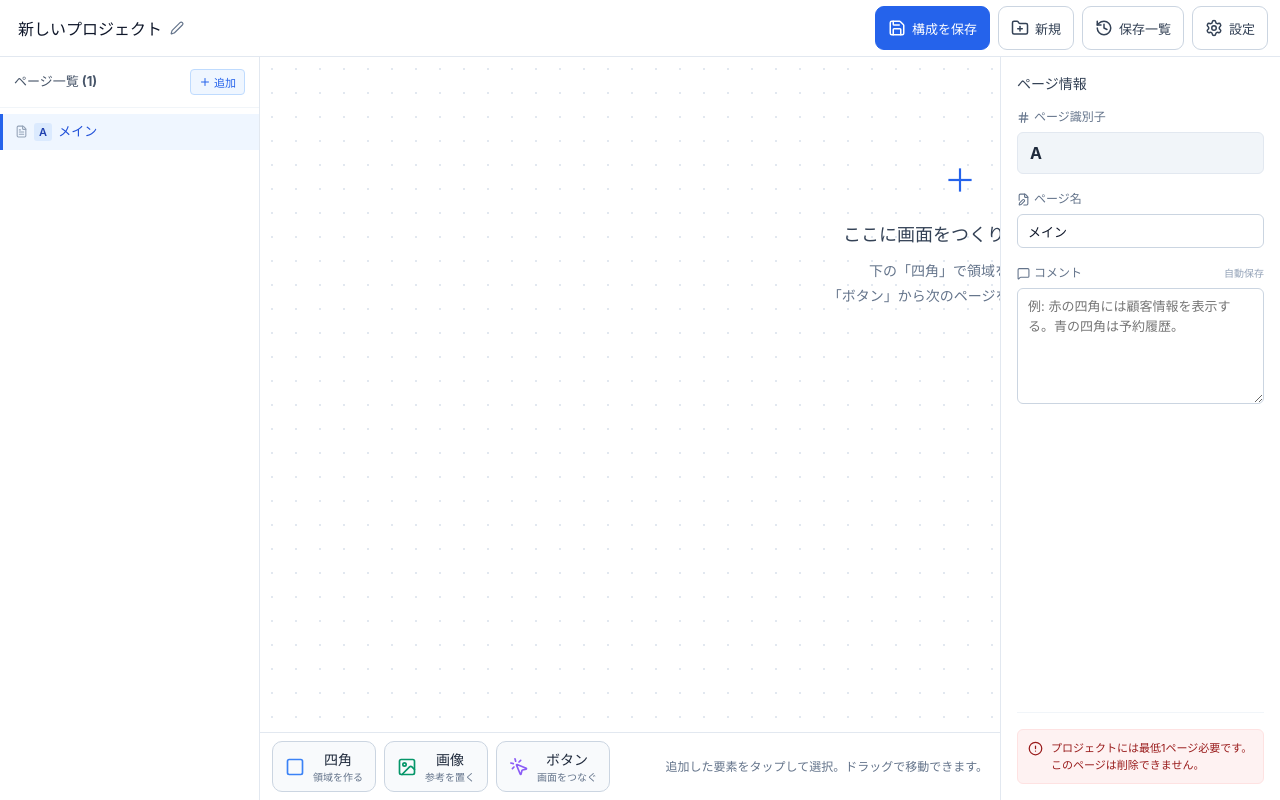
Test case: UI Mock App Component Tests › 四角の追加: 薄い色が割り当てられ、色名バッジが表示される
Click the button "四角 領域を作る".
click(324, 766)  # box [272,741,376,792]
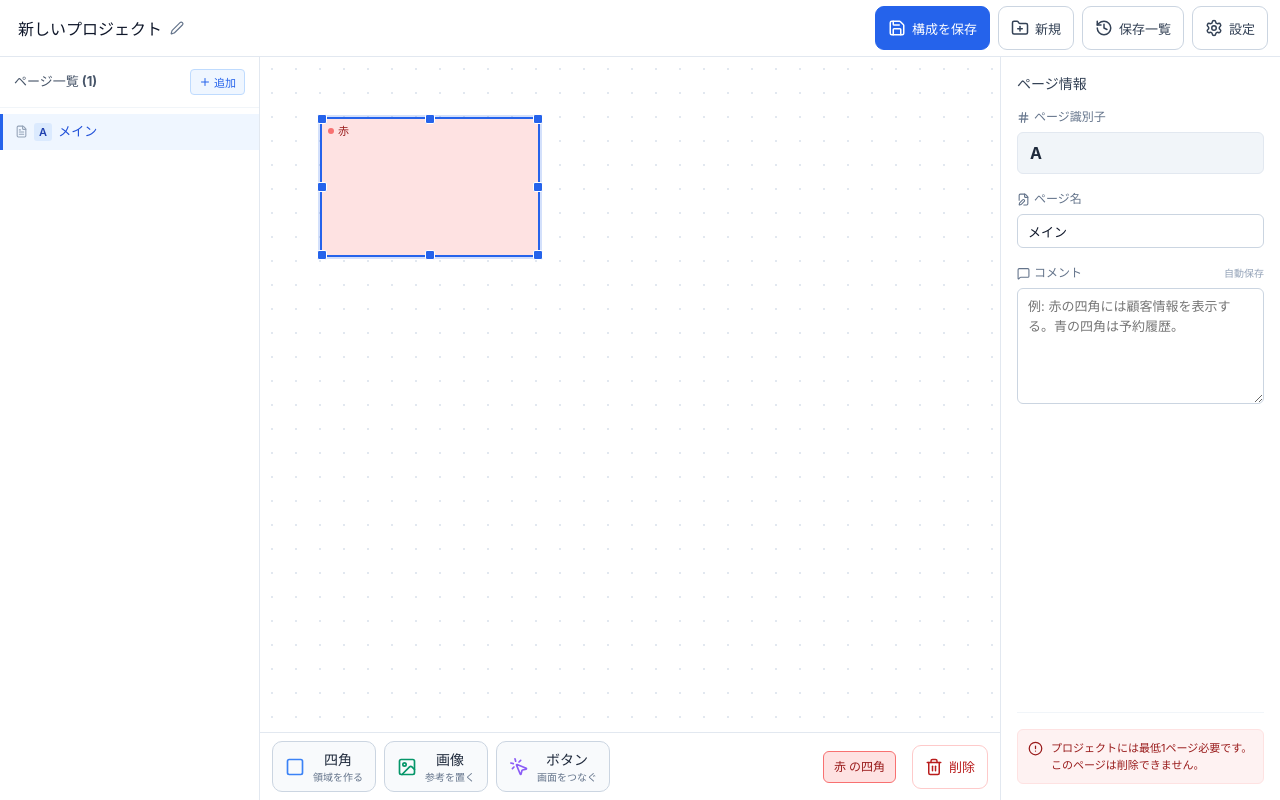
Check: the text "赤" is shown, box [338,123,349,140]
Check: the text "赤 の四角" is shown, box [823,750,896,782]
Click the button "四角 領域を作る".
click(324, 766)  # box [272,741,376,792]
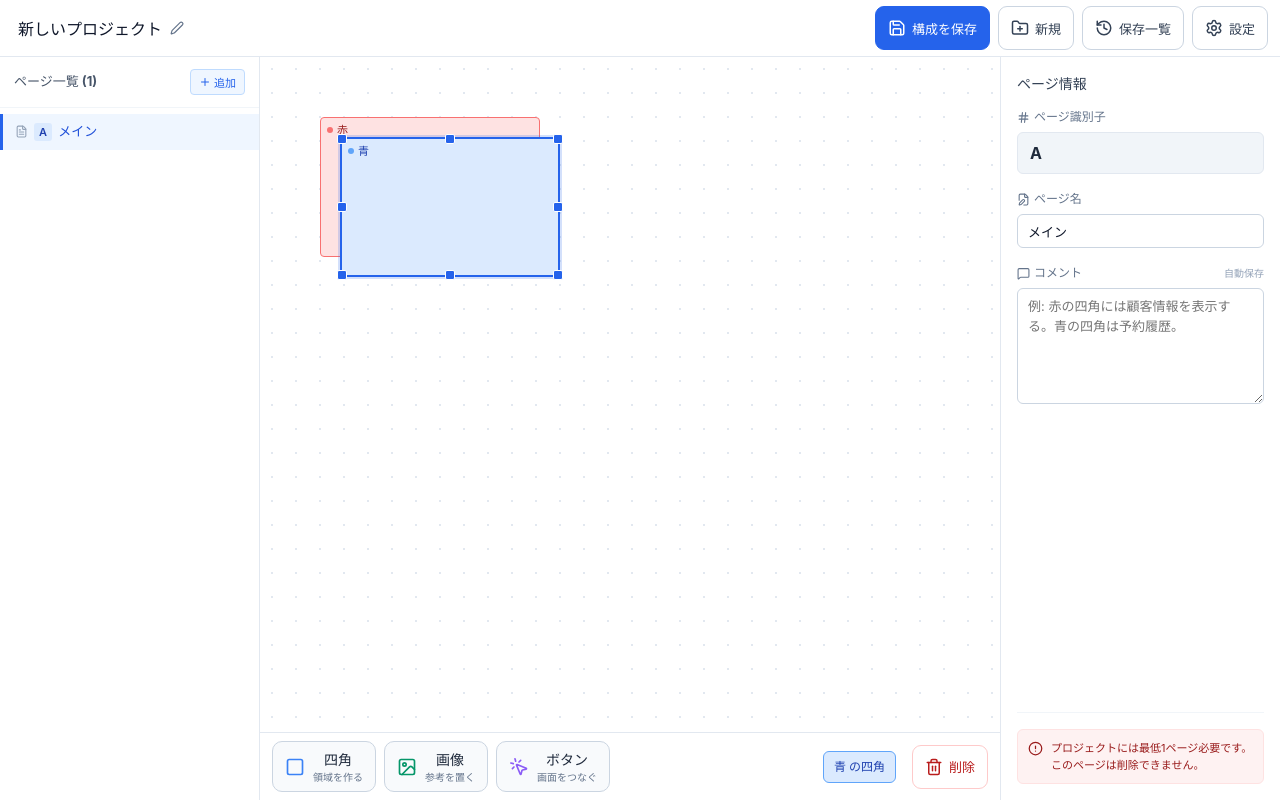
Check: the text "青" is shown, box [358,143,369,160]
Check: the text "青 の四角" is shown, box [823,750,896,782]
